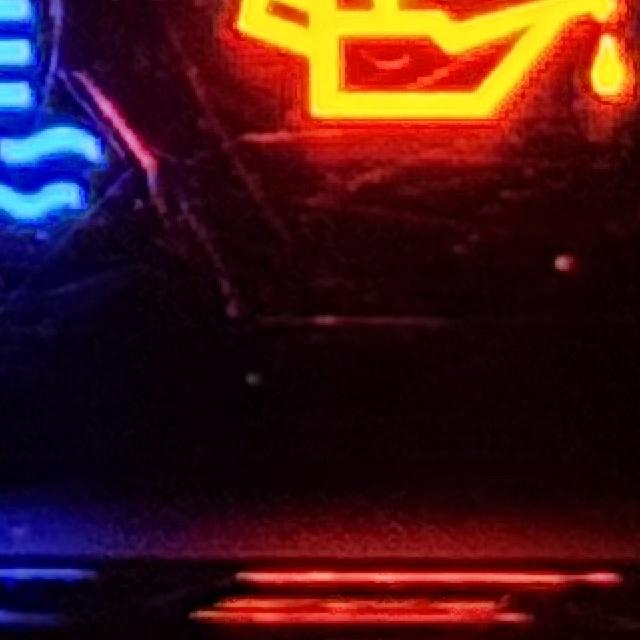Low Oil Pressure Issue: (235, 1, 640, 127)
